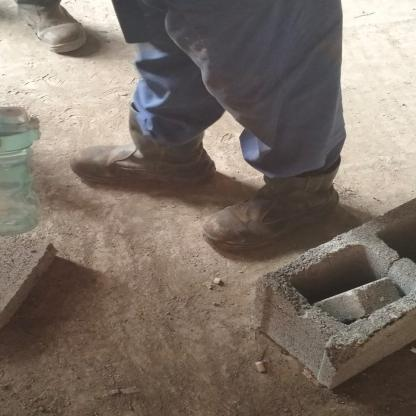bota: (68, 105, 223, 190), (205, 175, 363, 252), (10, 0, 93, 53)
